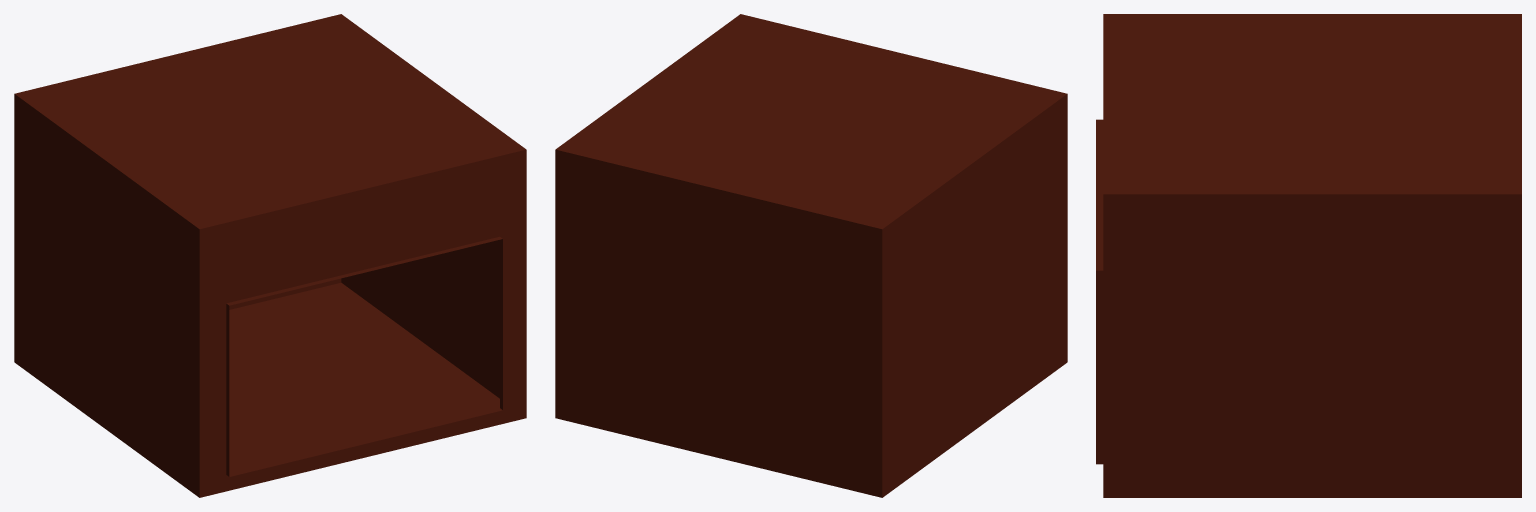
The model's file is room.glb.
The picture shows the model from 3 angles, left to right: view 1: azimuth 30°, elevation 25°; view 2: azimuth 150°, elevation 25°; view 3: azimuth 270°, elevation 25°; orthographic projection. The views are drawn at different scales.
Parts seen in each view (by area): view 1: room-walls; view 2: room-walls; view 3: room-walls.
Boxes of the visible parts, x1,y1,x2,y2 form: room-walls: [14, 14, 526, 497]; room-walls: [555, 14, 1067, 497]; room-walls: [1096, 14, 1521, 497].
Size of what is drawn, in the model's own units: 64.96 by 51.01 by 64.82.
